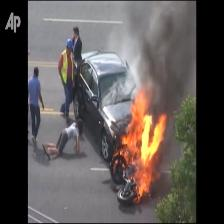fire: (111, 90, 169, 198)
smoke: (125, 1, 196, 113)
